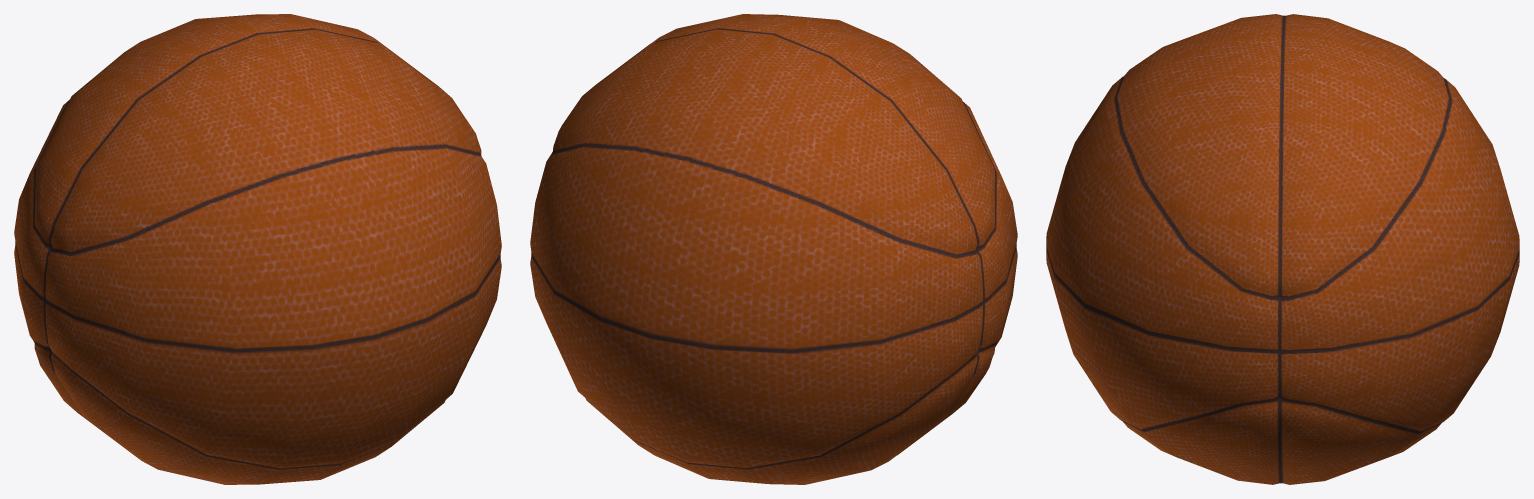
Rendered from BasketBall.gltf.
The picture shows the model from 3 angles, left to right: view 1: azimuth 30°, elevation 25°; view 2: azimuth 150°, elevation 25°; view 3: azimuth 270°, elevation 25°; orthographic projection.
Parts seen in each view (by area): view 1: basketball; view 2: basketball; view 3: basketball.
Boxes of the visible parts, box(x1,y1,x2,y2) form: basketball: box(14, 14, 501, 484); basketball: box(530, 14, 1017, 484); basketball: box(1046, 14, 1519, 484).
Bounding box in the file's own units: 0.9502 × 0.9242 × 0.9245.
Materials: 1 (1 with a texture image).
